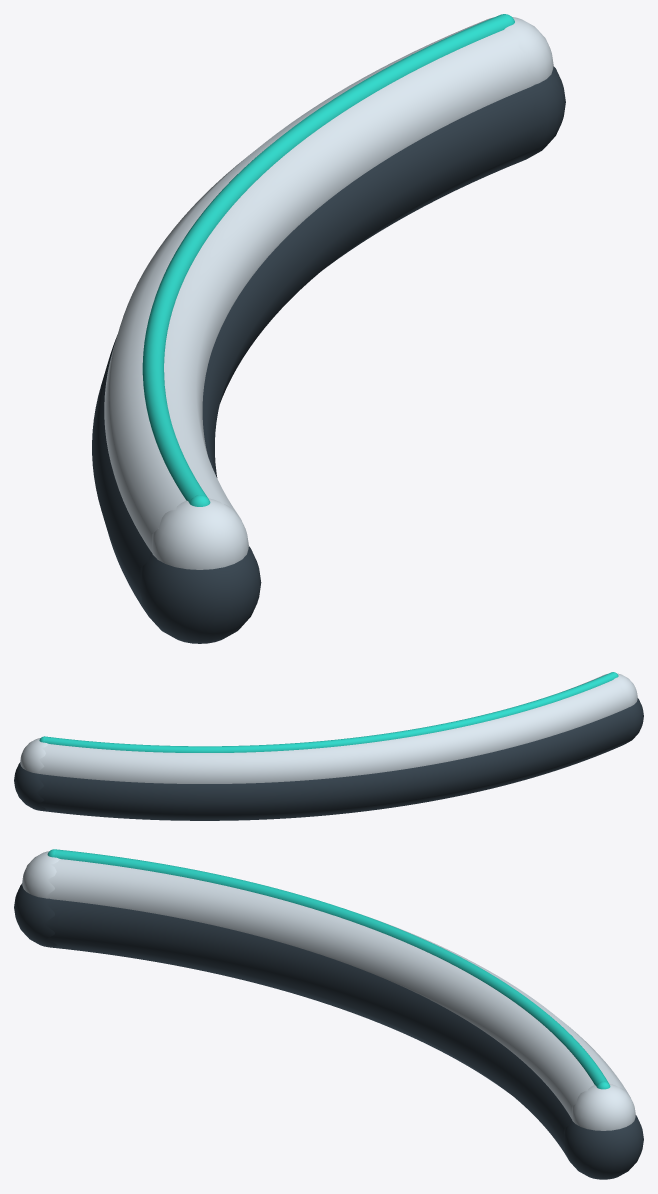
Rendered from corner.glb.
3 renders of one model, top to bottom at view 1: azimuth 30°, elevation 25°; view 2: azimuth 150°, elevation 25°; view 3: azimuth 270°, elevation 25°, orthographic. The views are drawn at different scales.
Parts seen in each view (by area): view 1: Corner / satin edge, Corner / graphite underside, Corner / inset guide, Corner / graphite underside cap 1, Corner / satin edge cap 1, Corner / graphite underside cap 0, Corner / satin edge cap 0; view 2: Corner / graphite underside, Corner / satin edge, Corner / inset guide, Corner / graphite underside cap 0, Corner / satin edge cap 0, Corner / graphite underside cap 1, Corner / satin edge cap 1; view 3: Corner / satin edge, Corner / graphite underside, Corner / inset guide, Corner / graphite underside cap 0, Corner / satin edge cap 0, Corner / graphite underside cap 1, Corner / satin edge cap 1.
Part boxes in pixels (left/top/right/bottom): Corner / satin edge: left=104, top=19, right=538, bottom=552; Corner / graphite underside: left=92, top=87, right=547, bottom=616; Corner / inset guide: left=142, top=15, right=511, bottom=502; Corner / graphite underside cap 1: left=140, top=547, right=261, bottom=643; Corner / satin edge cap 1: left=152, top=498, right=248, bottom=569; Corner / graphite underside cap 0: left=522, top=66, right=565, bottom=159; Corner / satin edge cap 0: left=485, top=17, right=553, bottom=84; Corner / graphite underside: left=37, top=708, right=634, bottom=820; Corner / satin edge: left=38, top=675, right=630, bottom=783; Corner / inset guide: left=43, top=672, right=616, bottom=752; Corner / graphite underside cap 0: left=14, top=762, right=45, bottom=810; Corner / satin edge cap 0: left=20, top=738, right=48, bottom=773; Corner / graphite underside cap 1: left=622, top=698, right=643, bottom=744; Corner / satin edge cap 1: left=603, top=673, right=637, bottom=706; Corner / satin edge: left=46, top=859, right=629, bottom=1118; Corner / graphite underside: left=44, top=899, right=636, bottom=1159; Corner / inset guide: left=53, top=849, right=608, bottom=1086; Corner / graphite underside cap 0: left=564, top=1115, right=643, bottom=1179; Corner / satin edge cap 0: left=572, top=1084, right=635, bottom=1130; Corner / graphite underside cap 1: left=14, top=883, right=56, bottom=947; Corner / satin edge cap 1: left=22, top=851, right=59, bottom=898.
Size of the model in its own units: 0.0282 by 0.00464 by 0.0282.
